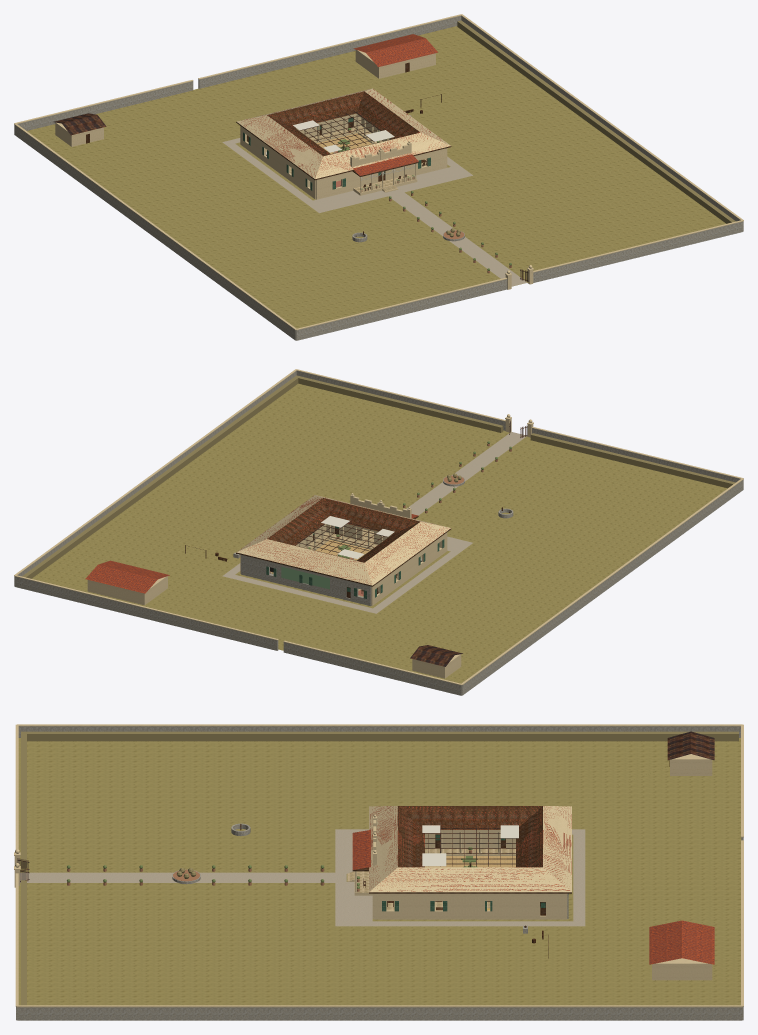
The model's file is lodge.f2b0081e55.glb.
3 renders of one model, top to bottom at view 1: azimuth 30°, elevation 25°; view 2: azimuth 150°, elevation 25°; view 3: azimuth 270°, elevation 25°, orthographic. The views are drawn at different scales.
Visible parts, largest first — view 1: grounds, house; view 2: grounds, house; view 3: grounds, house.
Boxes of the visible parts, x1=… form: grounds: x1=14, y1=14, x2=743, y2=340; house: x1=236, y1=88, x2=451, y2=199; grounds: x1=14, y1=369, x2=743, y2=695; house: x1=236, y1=493, x2=451, y2=606; grounds: x1=14, y1=724, x2=743, y2=1020; house: x1=347, y1=806, x2=571, y2=919.
Size of what is drawn, in the model's own units: 111 by 14.34 by 121.
Materials: 30 (14 with a texture image).
